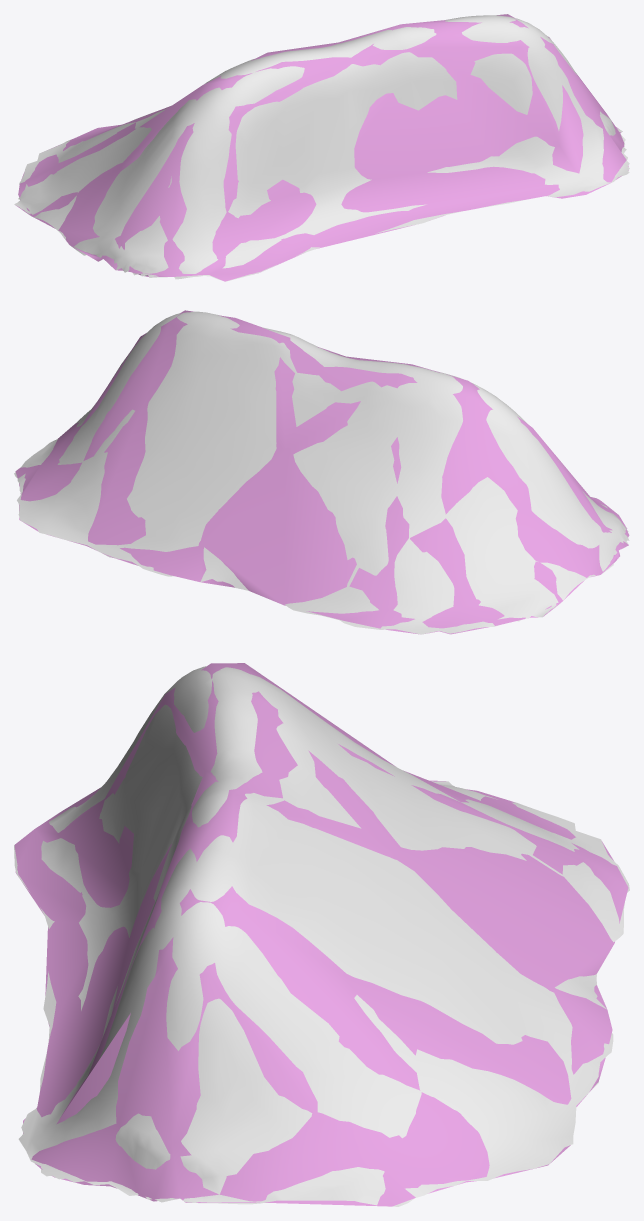
The model's file is ACE_TrenchSegment_01_short.fbx.
3 views of the same model, one above another, from view 1: azimuth 30°, elevation 25°; view 2: azimuth 150°, elevation 25°; view 3: azimuth 270°, elevation 25° (orthographic). The views are drawn at different scales.
Parts seen in each view (by area): view 1: HalfTrench_LOD0, UTM_BuildingFireView; view 2: HalfTrench_LOD0, UTM_BuildingFireView; view 3: HalfTrench_LOD0, UTM_BuildingFireView.
Boxes of the visible parts, x1,y1,x2,y2 form: HalfTrench_LOD0: (14,15,629,281); UTM_BuildingFireView: (15,14,628,281); HalfTrench_LOD0: (14,311,629,634); UTM_BuildingFireView: (15,310,629,634); HalfTrench_LOD0: (14,666,629,1206); UTM_BuildingFireView: (14,663,628,1206).
Size of what is drawn, in the model's own units: 573 by 158 by 350.
